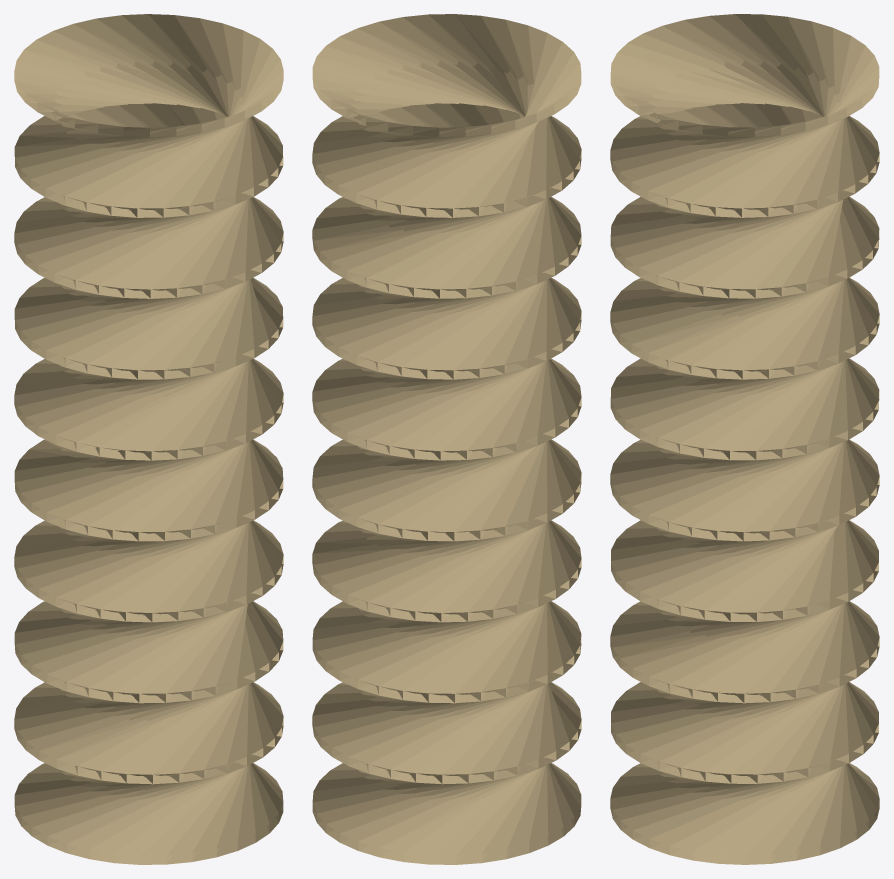
Rendered from pasta.fbx.
The picture shows the model from 3 angles, left to right: view 1: azimuth 30°, elevation 25°; view 2: azimuth 150°, elevation 25°; view 3: azimuth 270°, elevation 25°; orthographic projection.
Parts seen in each view (by area): view 1: Cylinder; view 2: Cylinder; view 3: Cylinder.
Part boxes in pixels (bbox=[...]): Cylinder: bbox=[14, 14, 283, 864]; Cylinder: bbox=[312, 14, 581, 864]; Cylinder: bbox=[610, 14, 879, 864].
Size of the model in its own units: 10.06 by 30.39 by 10.06.
